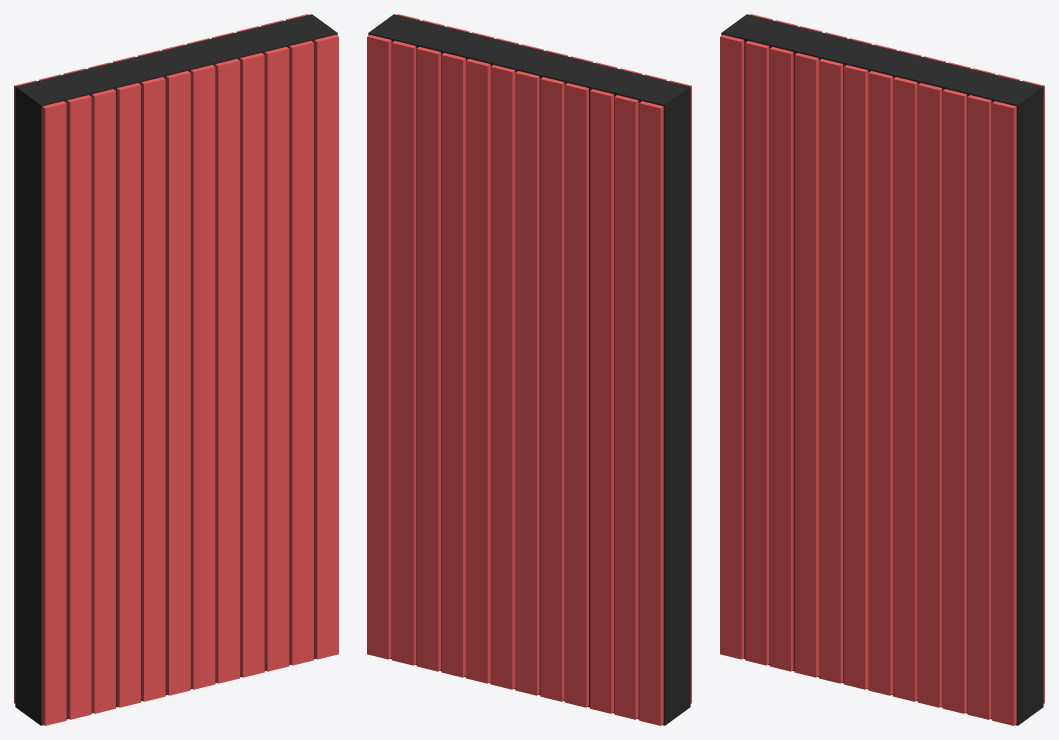
Rendered from PinkBoardsWall.glb.
The picture shows the model from 3 angles, left to right: view 1: azimuth 30°, elevation 25°; view 2: azimuth 150°, elevation 25°; view 3: azimuth 330°, elevation 25°; orthographic projection.
Visible parts, largest first — view 1: wall_verticalBoards_thin; view 2: wall_verticalBoards_thin; view 3: wall_verticalBoards_thin.
Part boxes in pixels (x1,y1,x2,y2): wall_verticalBoards_thin: [14, 14, 338, 725]; wall_verticalBoards_thin: [367, 14, 691, 725]; wall_verticalBoards_thin: [720, 14, 1044, 725].
Size of what is drawn, in the model's own units: 2 by 4 by 0.3631.
Materials: 1 (1 with a texture image).
